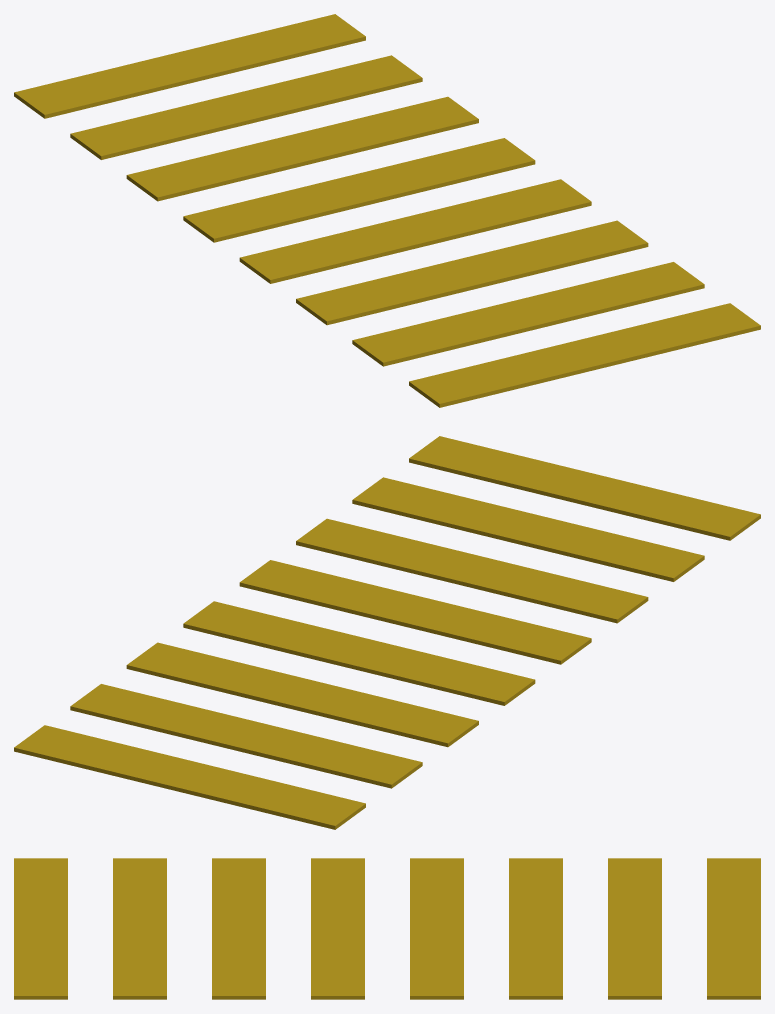
The model's file is SM_pedestrian_crossing.fbx.
3 renders of one model, top to bottom at view 1: azimuth 30°, elevation 25°; view 2: azimuth 150°, elevation 25°; view 3: azimuth 270°, elevation 25°, orthographic. The views are drawn at different scales.
Visible parts, largest first — view 1: Box5778; view 2: Box5778; view 3: Box5778.
Part boxes in pixels (<box>): Box5778: <box>14,14,760,407</box>; Box5778: <box>14,436,760,829</box>; Box5778: <box>14,858,760,999</box>.
Size of the model in its own units: 145 by 1.7 by 333.
